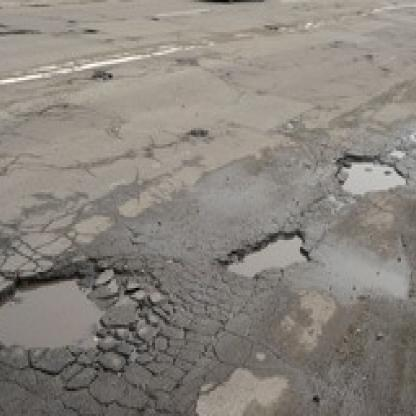pothole: (0, 270, 126, 357), (222, 228, 313, 279), (334, 153, 408, 199), (92, 69, 113, 82), (188, 128, 209, 137)
